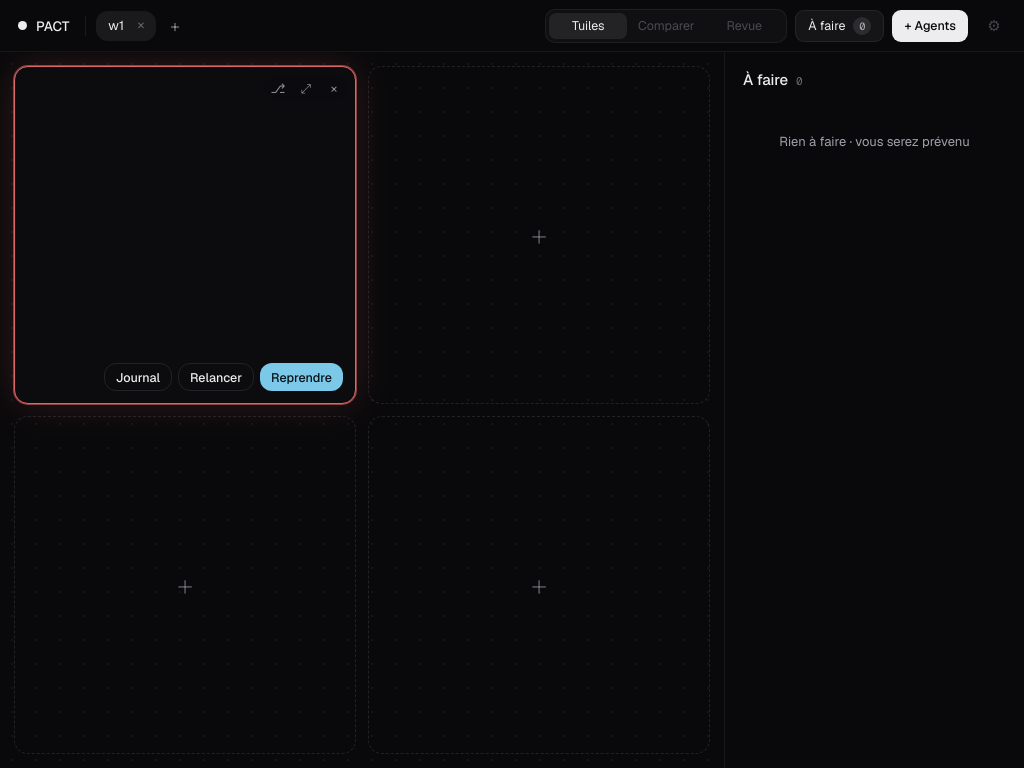
Test: App tile actions (US3) › opens « Journal » for the agent and closes it
Click the button "Journal" at (138, 377), box left=104, top=363, right=172, bottom=391
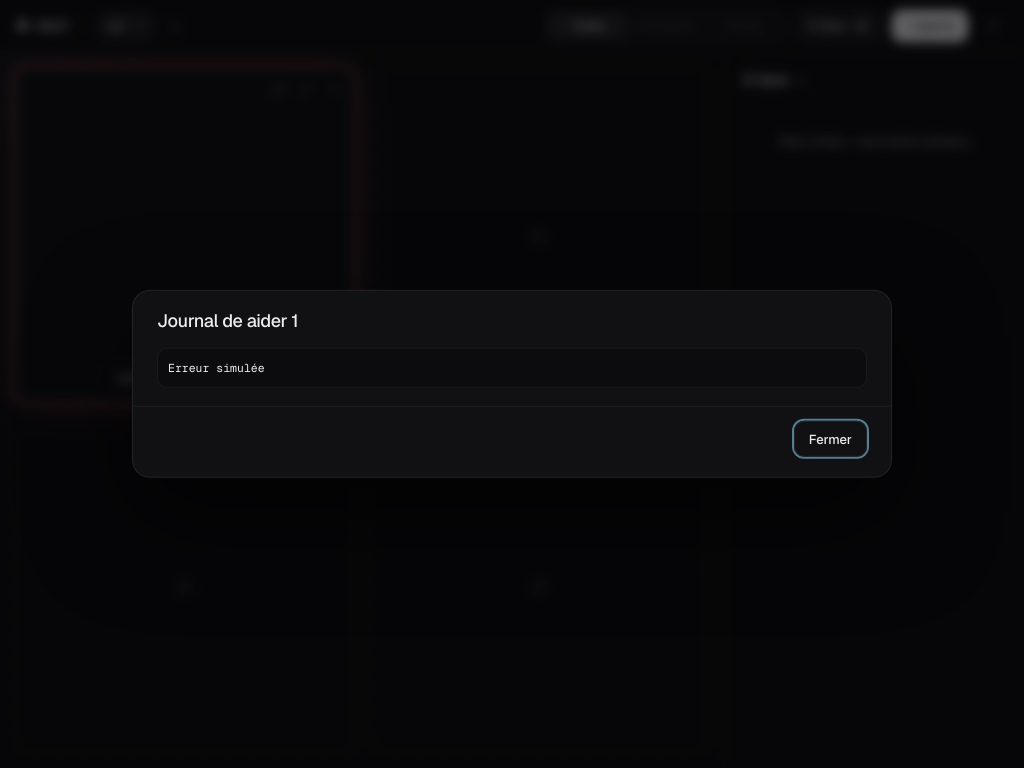
expect the dialog "Journal de aider 1" shows "Erreur simulée": met, box left=168, top=360, right=265, bottom=375
Click the button "Fermer" at (830, 439), box left=794, top=421, right=867, bottom=457
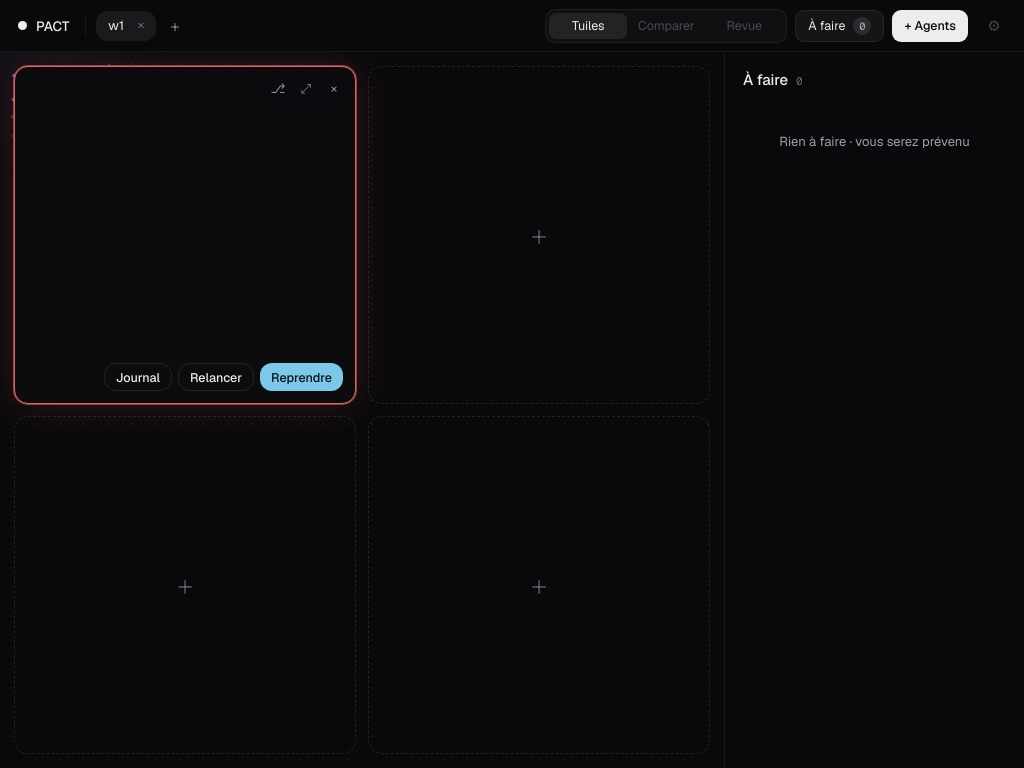
expect the dialog is gone: met
